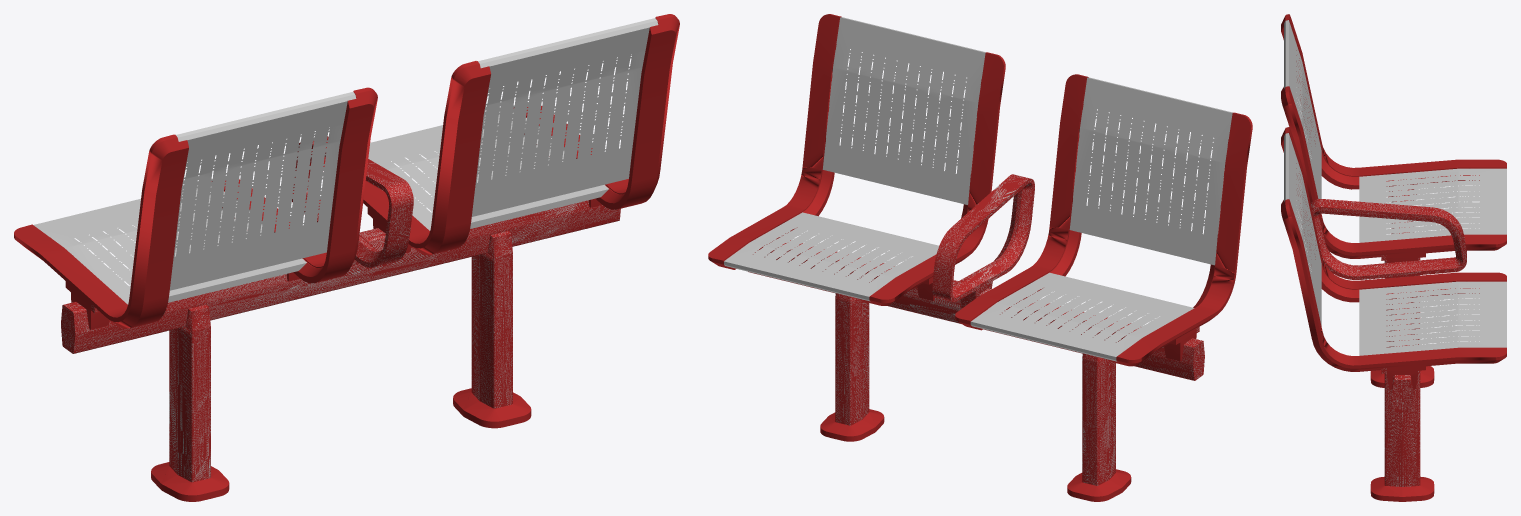
3 renders of one model, left to right at view 1: azimuth 30°, elevation 25°; view 2: azimuth 150°, elevation 25°; view 3: azimuth 270°, elevation 25°, orthographic. The views are drawn at different scales.
Parts seen in each view (by area): view 1: mesh18_mesh18-geometry, mesh14_mesh14-geometry, mesh13_mesh13-geometry, mesh1_mesh1-geometry, mesh8_mesh8-geometry, mesh9_mesh9-geometry, mesh2_mesh2-geometry, mesh5_mesh5-geometry, mesh6_mesh6-geometry, mesh7_mesh7-geometry, mesh10_mesh10-geometry; view 2: mesh18_mesh18-geometry, mesh13_mesh13-geometry, mesh14_mesh14-geometry, mesh2_mesh2-geometry, mesh9_mesh9-geometry, mesh8_mesh8-geometry, mesh1_mesh1-geometry, mesh5_mesh5-geometry, mesh6_mesh6-geometry, mesh10_mesh10-geometry; view 3: mesh18_mesh18-geometry, mesh13_mesh13-geometry, mesh14_mesh14-geometry, mesh2_mesh2-geometry, mesh9_mesh9-geometry, mesh8_mesh8-geometry, mesh1_mesh1-geometry, mesh6_mesh6-geometry, mesh5_mesh5-geometry, mesh15_mesh15-geometry.
Boxes of the visible parts, box(x1,y1,x2,y2) form: mesh18_mesh18-geometry: box(33, 18, 658, 304); mesh14_mesh14-geometry: box(14, 61, 490, 328); mesh13_mesh13-geometry: box(211, 14, 679, 283); mesh1_mesh1-geometry: box(61, 200, 620, 353); mesh8_mesh8-geometry: box(177, 256, 503, 482); mesh9_mesh9-geometry: box(169, 255, 512, 479); mesh2_mesh2-geometry: box(292, 136, 413, 267); mesh5_mesh5-geometry: box(161, 392, 519, 501); mesh6_mesh6-geometry: box(151, 388, 531, 498); mesh7_mesh7-geometry: box(177, 231, 512, 336); mesh10_mesh10-geometry: box(65, 207, 411, 329); mesh18_mesh18-geometry: box(724, 17, 1232, 361); mesh13_mesh13-geometry: box(708, 14, 1088, 330); mesh14_mesh14-geometry: box(864, 52, 1252, 366); mesh2_mesh2-geometry: box(932, 174, 1034, 302); mesh9_mesh9-geometry: box(842, 301, 1109, 485); mesh8_mesh8-geometry: box(835, 300, 1115, 483); mesh1_mesh1-geometry: box(748, 240, 1204, 380); mesh5_mesh5-geometry: box(820, 409, 1131, 499); mesh6_mesh6-geometry: box(829, 412, 1122, 501); mesh10_mesh10-geometry: box(917, 277, 1199, 361); mesh18_mesh18-geometry: box(1284, 20, 1506, 355); mesh13_mesh13-geometry: box(1281, 86, 1506, 371); mesh14_mesh14-geometry: box(1281, 14, 1506, 302); mesh2_mesh2-geometry: box(1310, 199, 1466, 279); mesh9_mesh9-geometry: box(1384, 261, 1402, 486); mesh8_mesh8-geometry: box(1402, 275, 1420, 486); mesh1_mesh1-geometry: box(1391, 189, 1413, 412); mesh6_mesh6-geometry: box(1370, 366, 1434, 501); mesh5_mesh5-geometry: box(1370, 370, 1434, 501); mesh15_mesh15-geometry: box(1381, 252, 1425, 389).
Bounding box in the file's own units: 0.7513 × 0.5588 × 0.3512.
